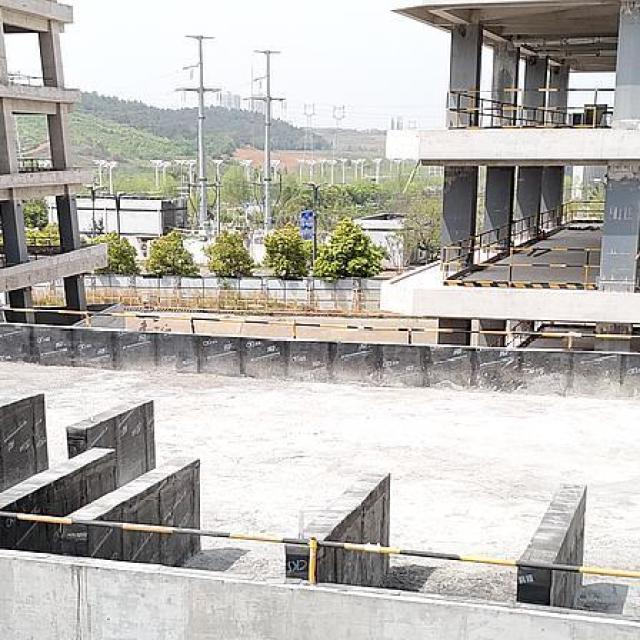edge_guardrail: (0, 510, 640, 587), (0, 306, 640, 348), (440, 200, 607, 290), (447, 86, 616, 130), (8, 76, 43, 86), (17, 157, 52, 167), (26, 236, 60, 245)
